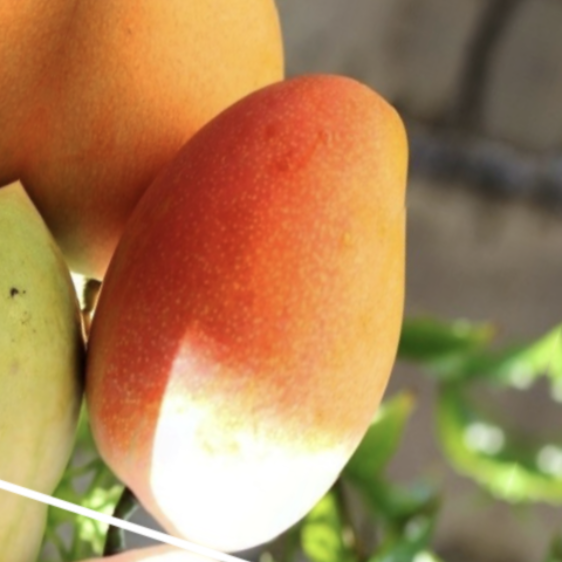mango: (0, 0, 515, 562)
